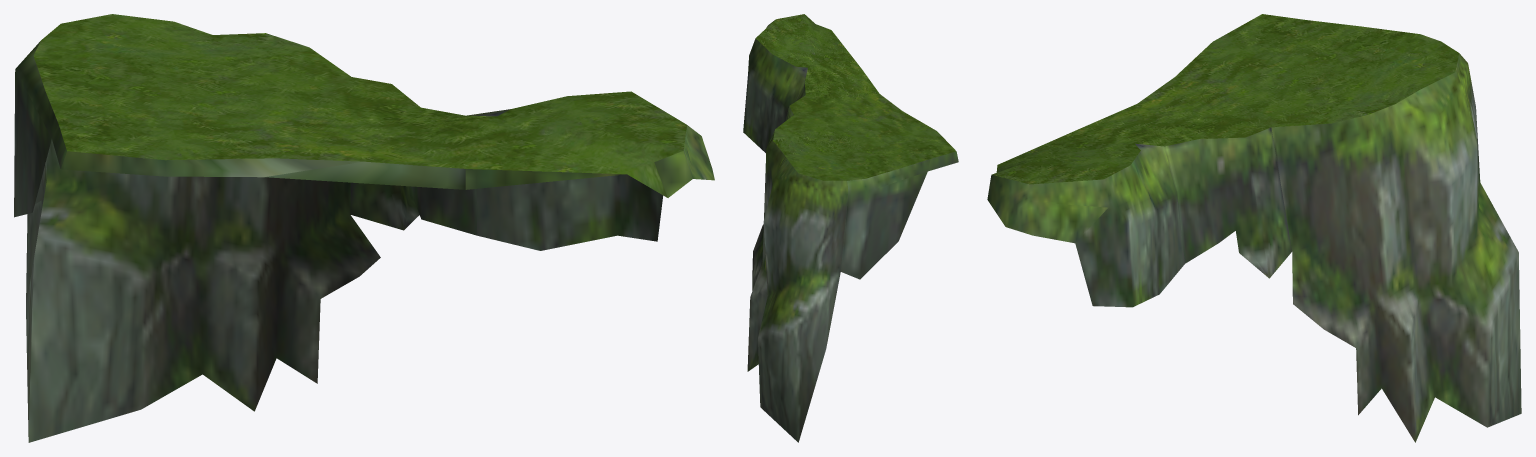
Rendered from S_Rock_Green058_H2.FBX.
3 views of the same model, side by side, from view 1: azimuth 30°, elevation 25°; view 2: azimuth 150°, elevation 25°; view 3: azimuth 270°, elevation 25° (orthographic). The views are drawn at different scales.
Visible parts, largest first — view 1: S_Rock_Green058_H2_1, S_Rock_Green058_H2_2; view 2: S_Rock_Green058_H2_1, S_Rock_Green058_H2_2; view 3: S_Rock_Green058_H2_1, S_Rock_Green058_H2_2.
Boxes of the visible parts, x1,y1,x2,y2 form: S_Rock_Green058_H2_1: (14,41,714,442); S_Rock_Green058_H2_2: (33,14,686,197); S_Rock_Green058_H2_1: (743,20,958,442); S_Rock_Green058_H2_2: (755,14,955,180); S_Rock_Green058_H2_1: (987,53,1521,442); S_Rock_Green058_H2_2: (992,14,1459,184).
Size of the model in its own units: 2422 by 2104 by 2778.
